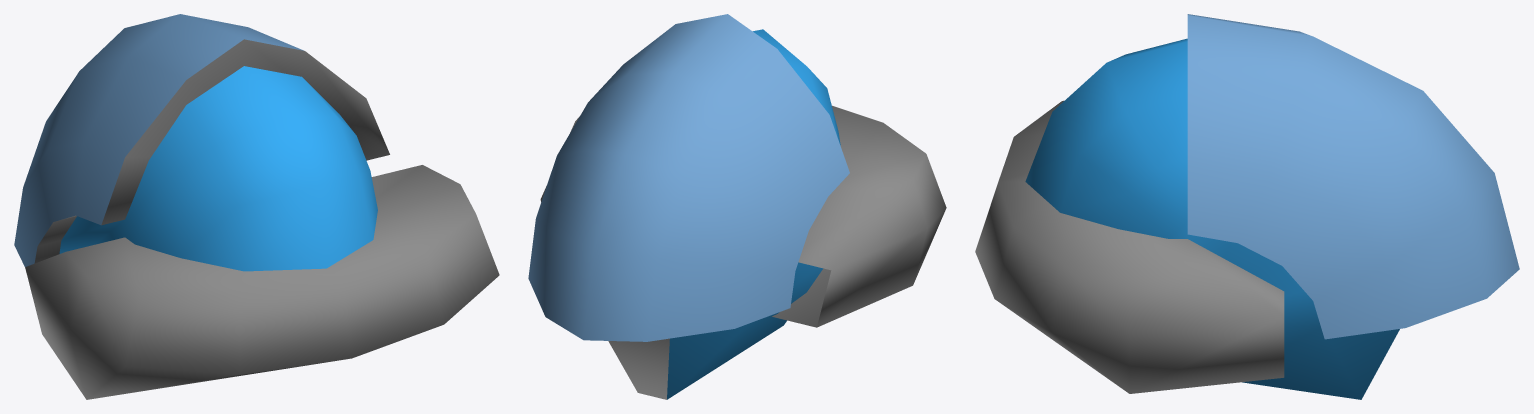
Rendered from playerHead.fbx.
3 views of the same model, side by side, from view 1: azimuth 30°, elevation 25°; view 2: azimuth 150°, elevation 25°; view 3: azimuth 270°, elevation 25° (orthographic). The views are drawn at different scales.
Visible parts, largest first — view 1: Shape_IndexedFaceSet; view 2: Shape_IndexedFaceSet; view 3: Shape_IndexedFaceSet.
Part boxes in pixels (left/top/right/bottom): Shape_IndexedFaceSet: left=14, top=14, right=499, bottom=399; Shape_IndexedFaceSet: left=528, top=14, right=946, bottom=399; Shape_IndexedFaceSet: left=975, top=14, right=1519, bottom=399.
Bounding box in the file's own units: 0.3721 × 0.3333 × 0.4372.
